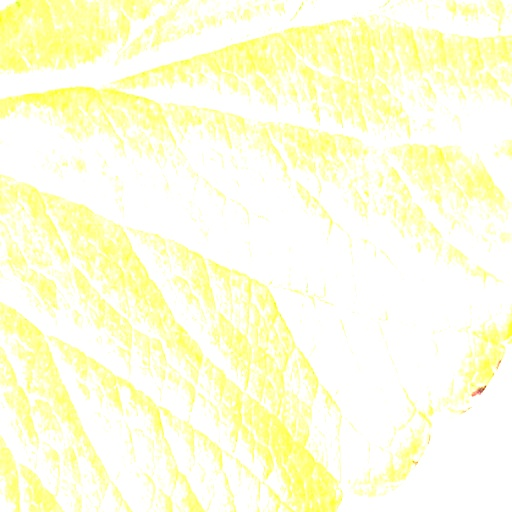Angular Leafspot: (107, 122, 463, 493)
